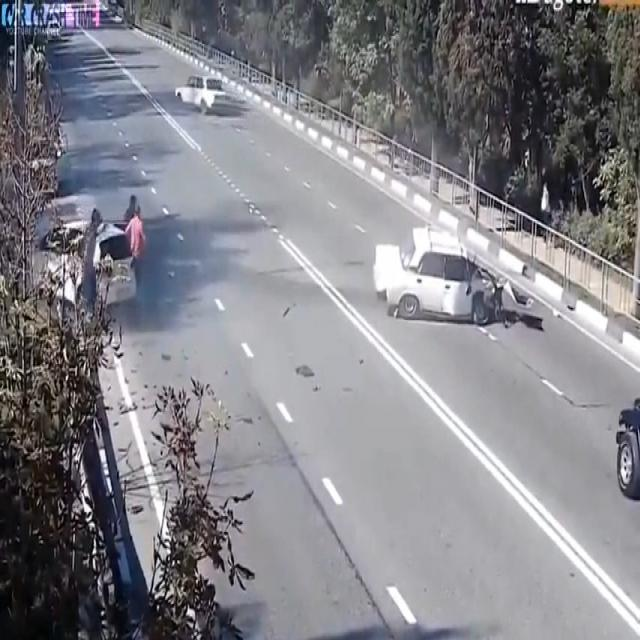Accident: (381, 207, 490, 316), (32, 162, 126, 284)
